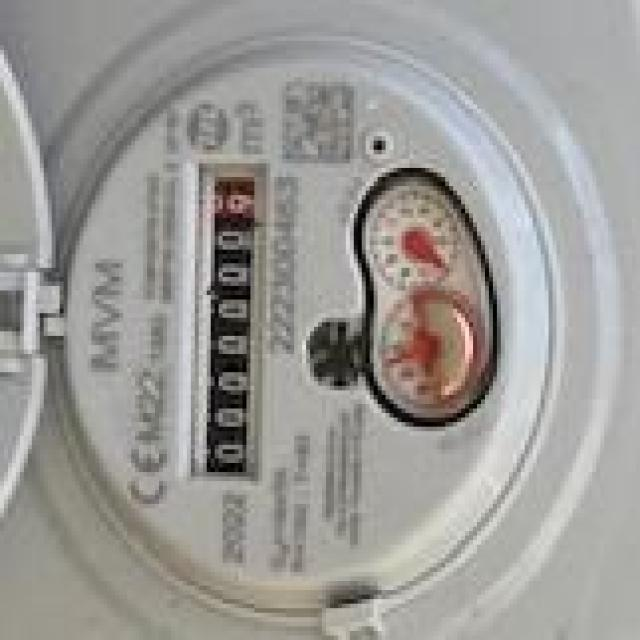gaz_meter: (61, 35, 552, 615)
indication: (204, 177, 257, 486)
